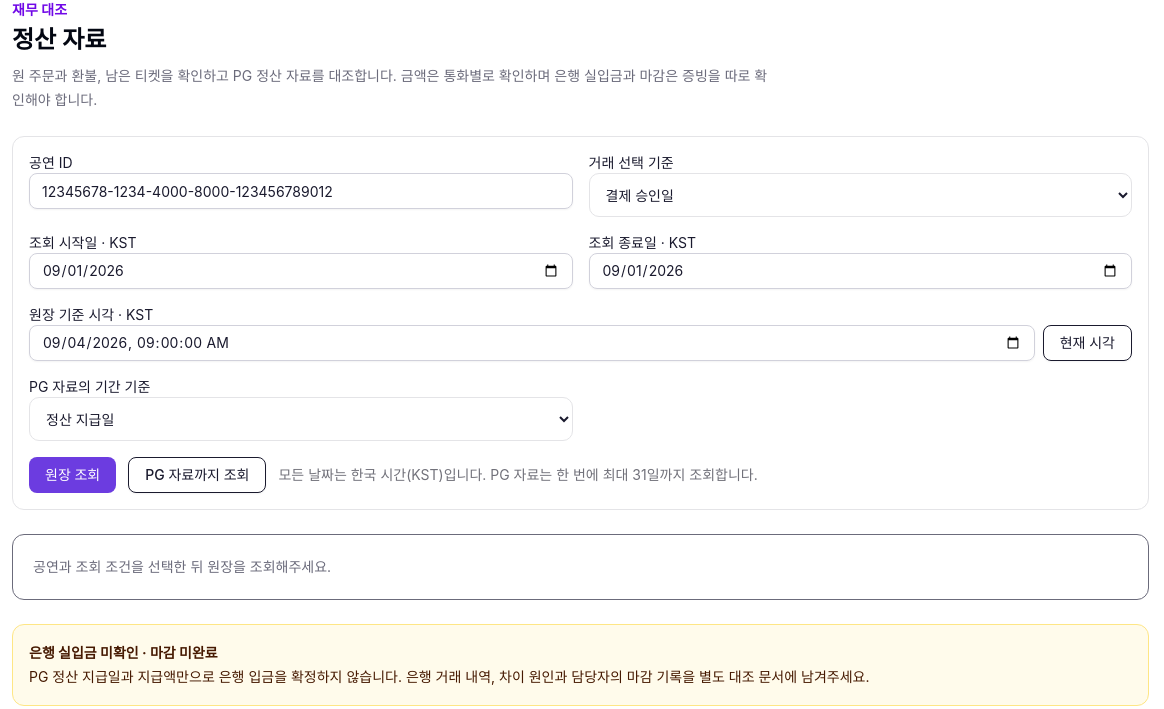
Finance ledger dashboard › sends showtime, period, KST cutoff and provider date basis to the API on an explicit query
The width and height of the screenshot is (1164, 709).
Click the button "PG 자료까지 조회" at x=197, y=475, box [128, 457, 266, 493]
(page scrolled)
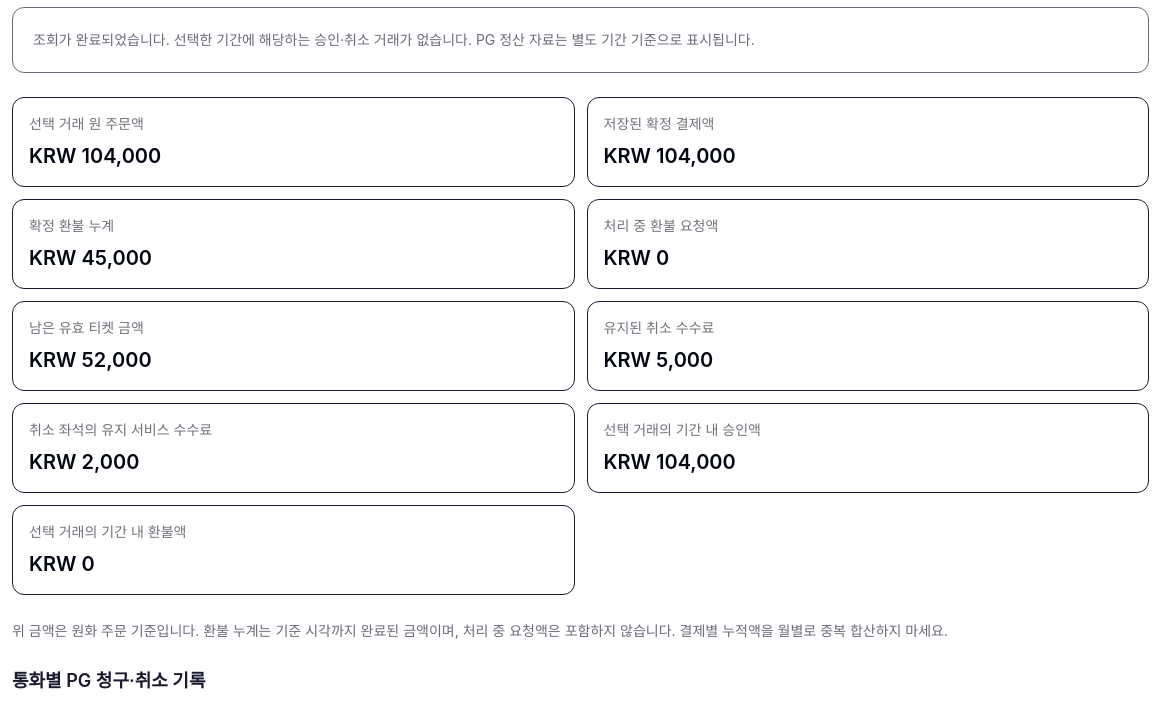
Check: the text "KRW 52,000" is shown, box [29, 348, 152, 372]
